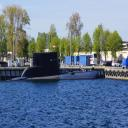submarine: (13, 51, 98, 82)
